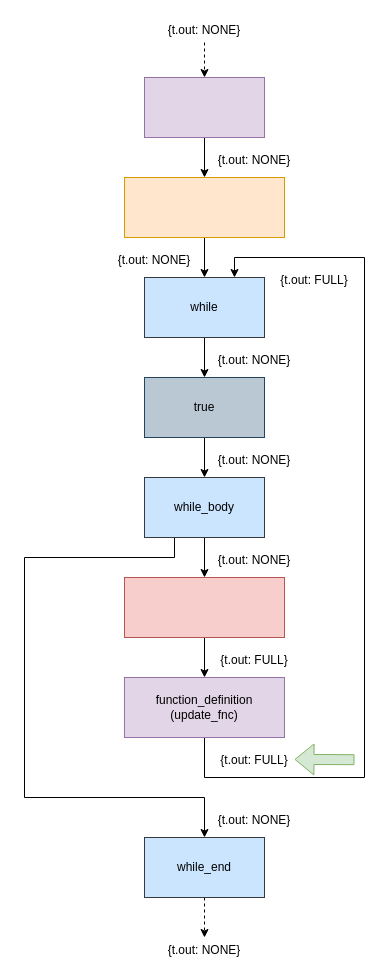
This 390x979 diagram has some shape labels left out. The shapes that lost their labels are listed below. From the top down, each one's centre as x and y in pixels, then its label:
the point at 204,107: dummy_global
the point at 204,207: function_definition (init_fnc)
the point at 204,607: function_definition (output_fnc)
